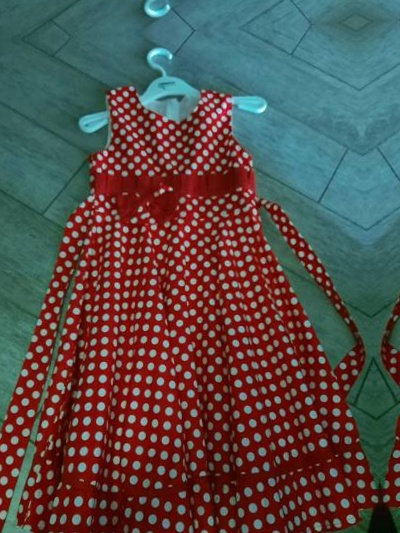Dress: (0, 64, 360, 533), (382, 42, 400, 533), (0, 0, 331, 1)
